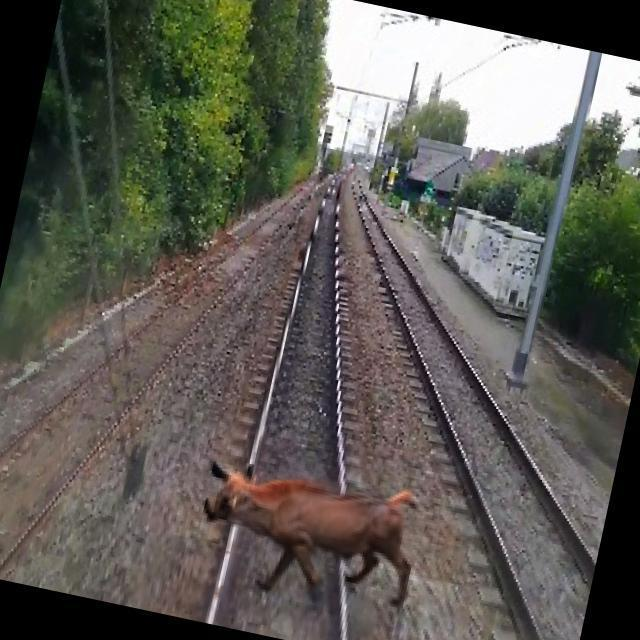rail: (346, 171, 603, 640), (162, 159, 383, 640)
